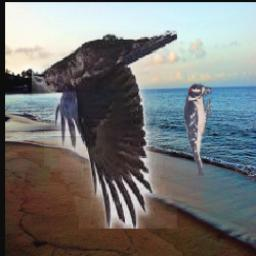Crow: (32, 31, 177, 229)
Woodpecker: (183, 81, 213, 176)
